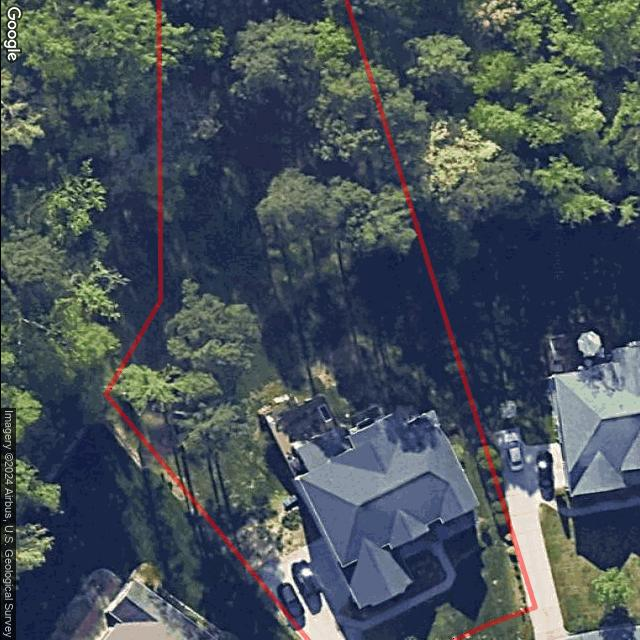Driveway: (253, 538, 367, 640)
House: (292, 408, 480, 610)
Lawn: (107, 1, 535, 640)
Other: (101, 0, 422, 405), (261, 394, 386, 478), (358, 548, 447, 618), (444, 520, 482, 566)
Sidewalk: (362, 542, 455, 631)
